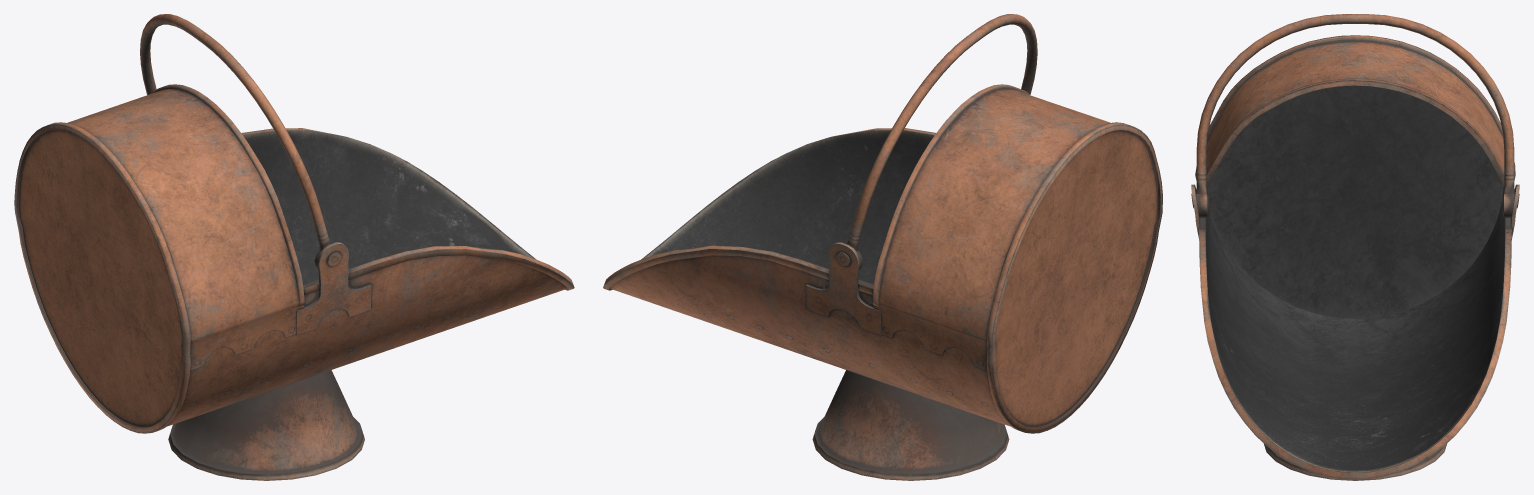
File: SM_Ashtray_01a.fbx
The picture shows the model from 3 angles, left to right: view 1: azimuth 30°, elevation 25°; view 2: azimuth 150°, elevation 25°; view 3: azimuth 270°, elevation 25°; orthographic projection. The views are drawn at different scales.
Visible parts, largest first — view 1: SM_Ashtray_01a_LOD0; view 2: SM_Ashtray_01a_LOD0; view 3: SM_Ashtray_01a_LOD0.
Boxes of the visible parts, x1,y1,x2,y2 form: SM_Ashtray_01a_LOD0: [14, 14, 574, 480]; SM_Ashtray_01a_LOD0: [603, 14, 1162, 480]; SM_Ashtray_01a_LOD0: [1191, 14, 1519, 480].
Bounding box in the file's own units: 40.43 × 26.64 × 35.6.
1 material, 1 textured.
